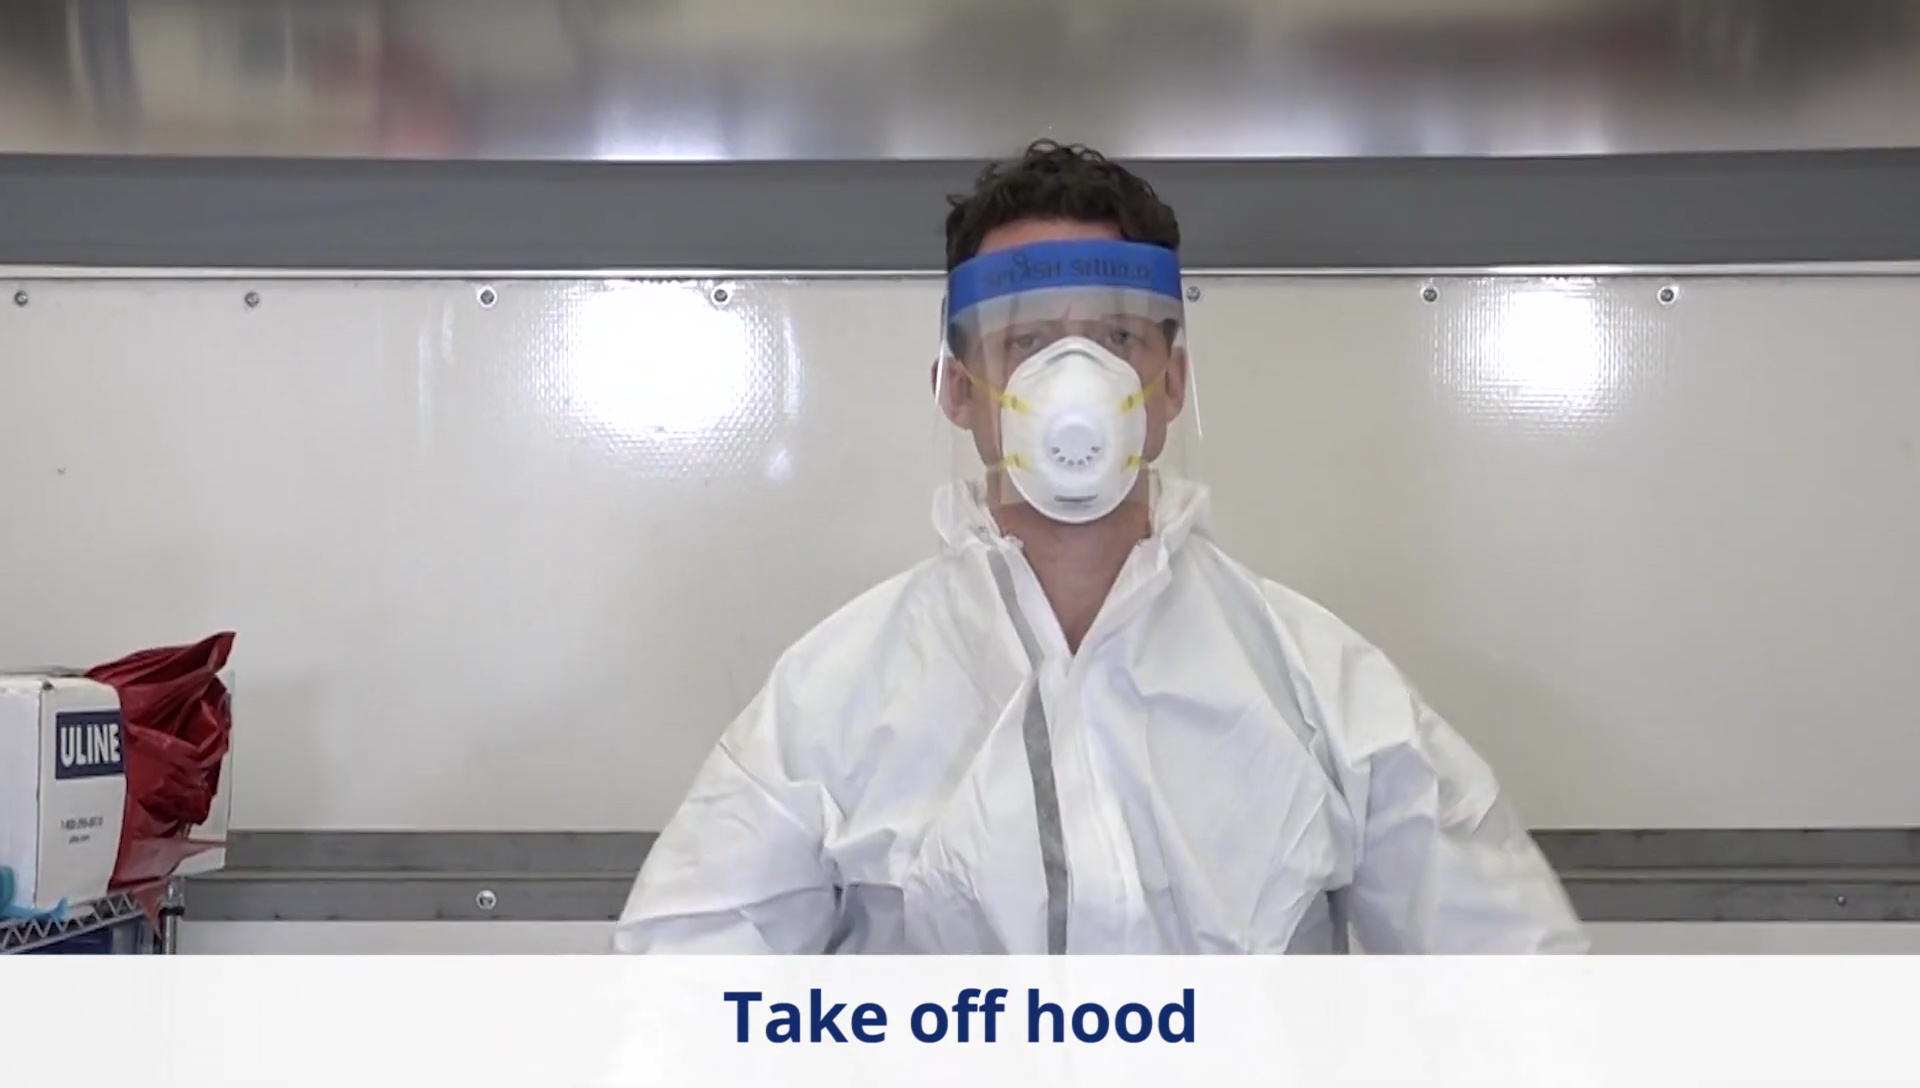Coverall: (610, 499, 1589, 951)
Face_Shield: (930, 237, 1228, 557)
with_mask: (998, 336, 1148, 528)
